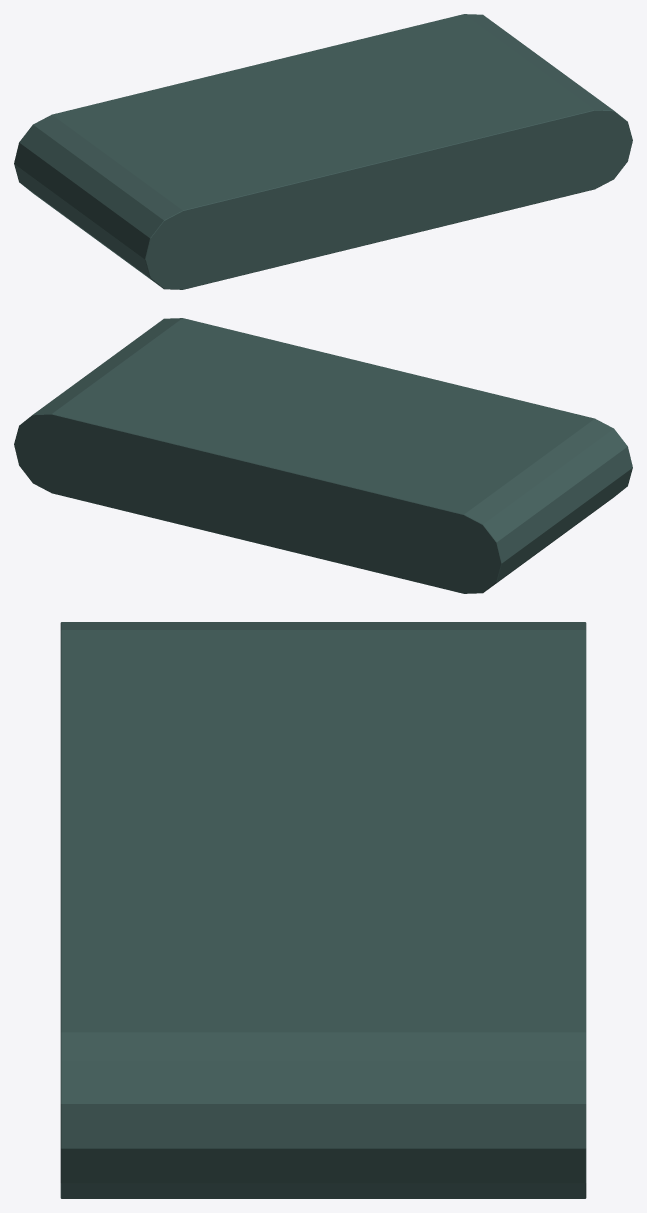
Rendered from OneWay.gltf.
The picture shows the model from 3 angles, top to bottom: view 1: azimuth 30°, elevation 25°; view 2: azimuth 150°, elevation 25°; view 3: azimuth 270°, elevation 25°; orthographic projection. The views are drawn at different scales.
Visible parts, largest first — view 1: OneWay_baked; view 2: OneWay_baked; view 3: OneWay_baked.
Boxes of the visible parts, bbox=[...] form: OneWay_baked: bbox=[14, 14, 632, 289]; OneWay_baked: bbox=[14, 318, 632, 593]; OneWay_baked: bbox=[60, 622, 586, 1198].
Bounding box in the file's own units: 0.9 × 0.155 × 0.42.
